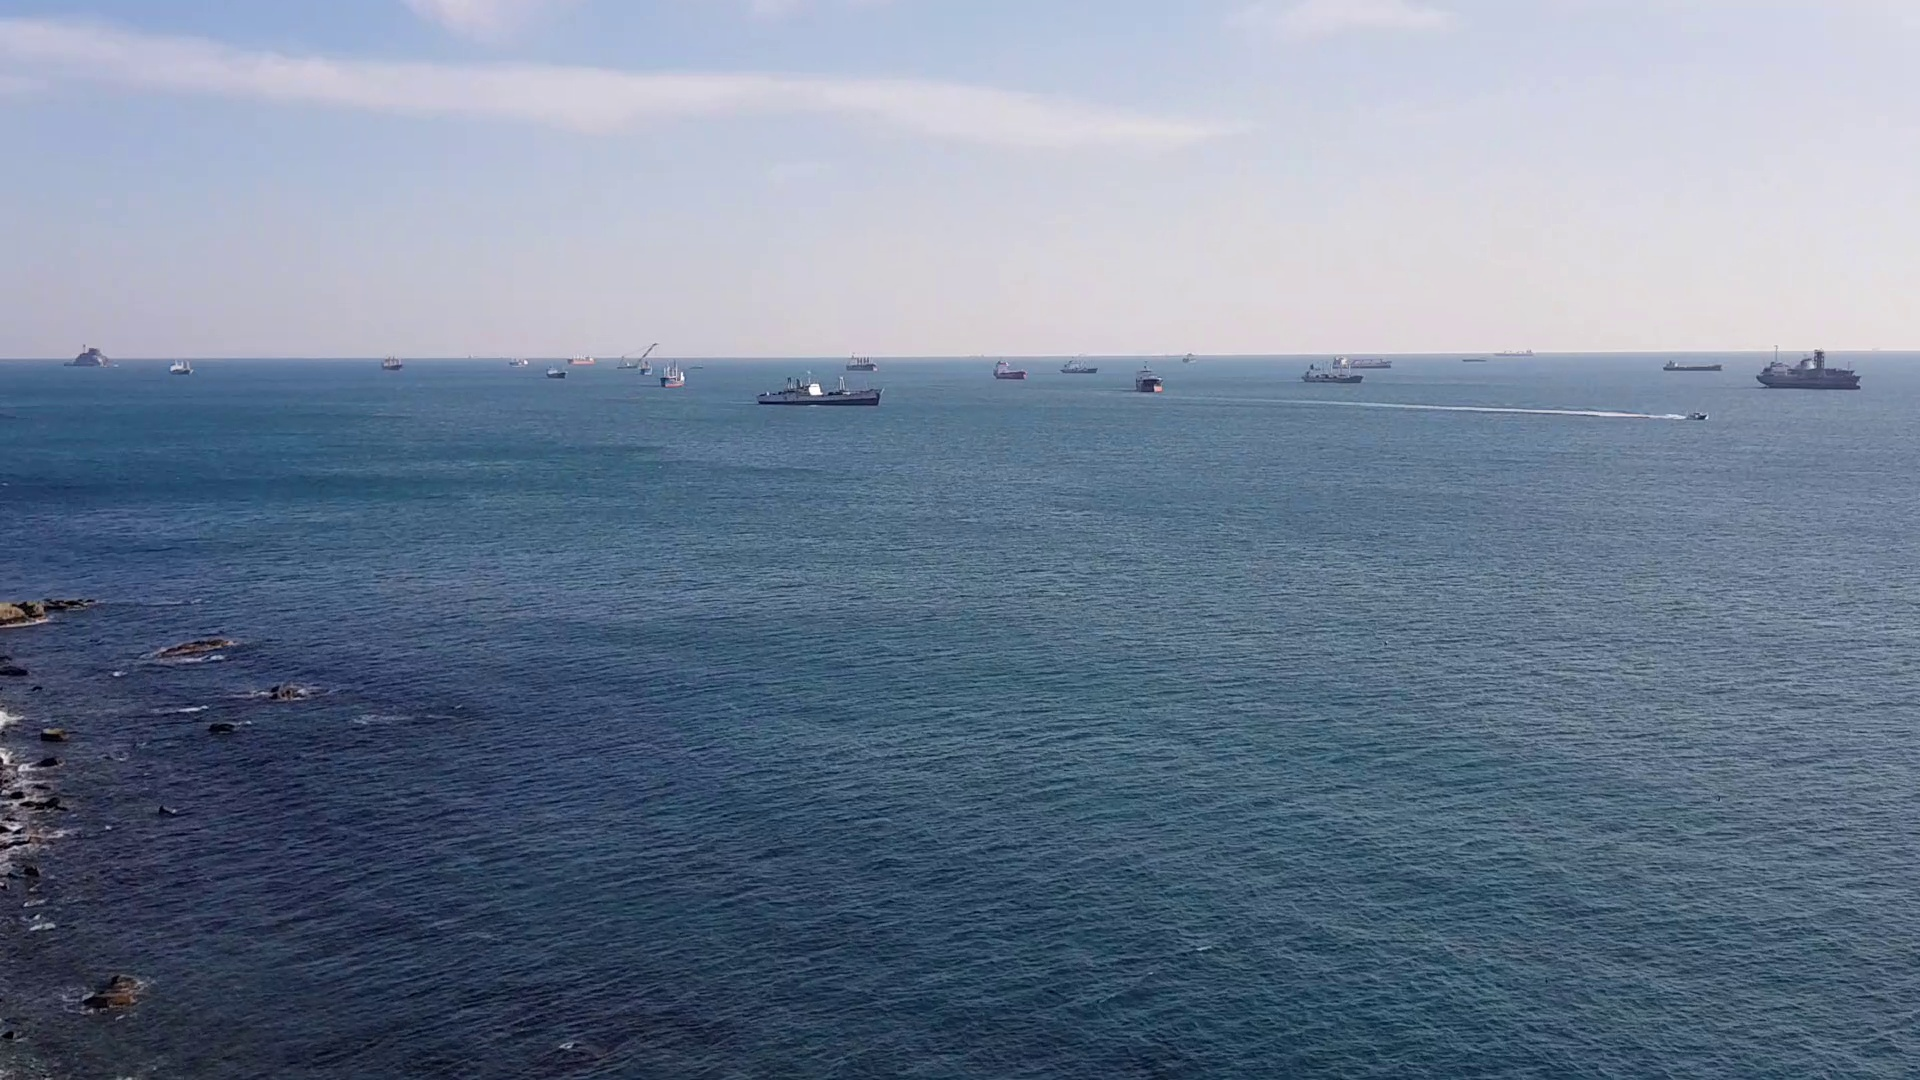Bulk_Carrier: (752, 378, 882, 405), (1750, 357, 1861, 386), (1290, 364, 1383, 382)
